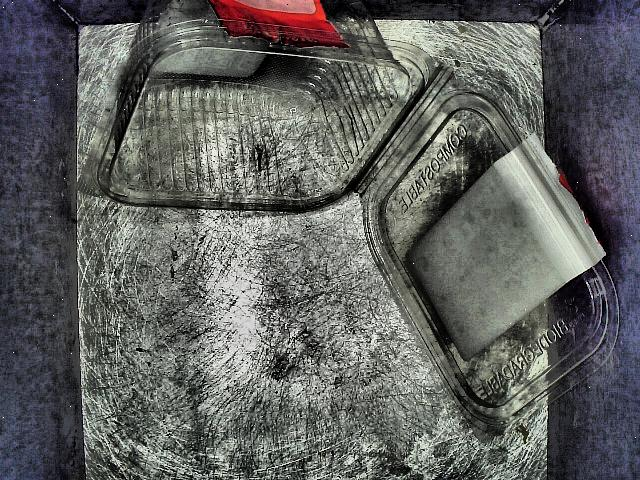Plastic: (76, 0, 614, 437)
